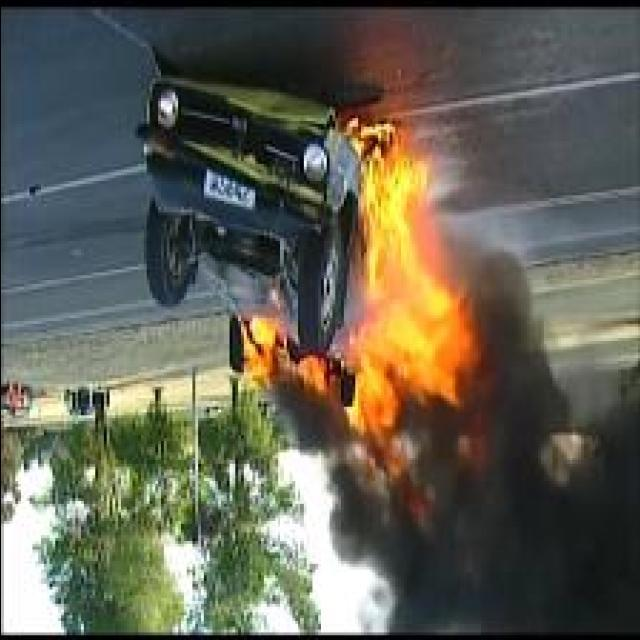Fire: (340, 121, 477, 524), (240, 314, 283, 392), (298, 354, 326, 394)
